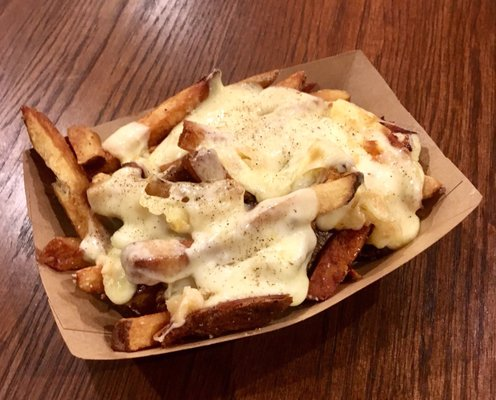curry: (10, 0, 494, 400)
sandwich: (17, 68, 461, 353)
